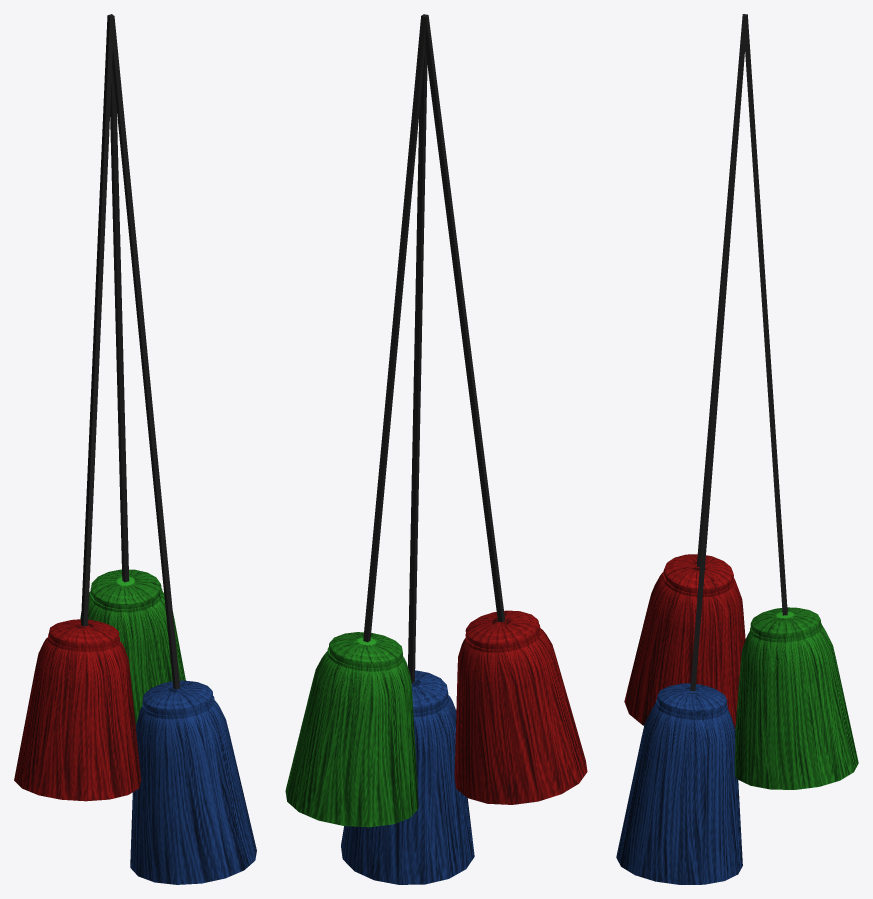
Rendered from bahroma.fbx.
3 views of the same model, side by side, from view 1: azimuth 30°, elevation 25°; view 2: azimuth 150°, elevation 25°; view 3: azimuth 270°, elevation 25° (orthographic). The views are drawn at different scales.
Visible parts, largest first — view 1: colocol; view 2: colocol; view 3: colocol.
Boxes of the visible parts, x1,y1,x2,y2 form: colocol: (14,14,256,884); colocol: (285,14,587,884); colocol: (616,14,858,884).
Bounding box in the file's own units: 19.76 × 70.95 × 18.83.
Materials: 1 (1 with a texture image).
